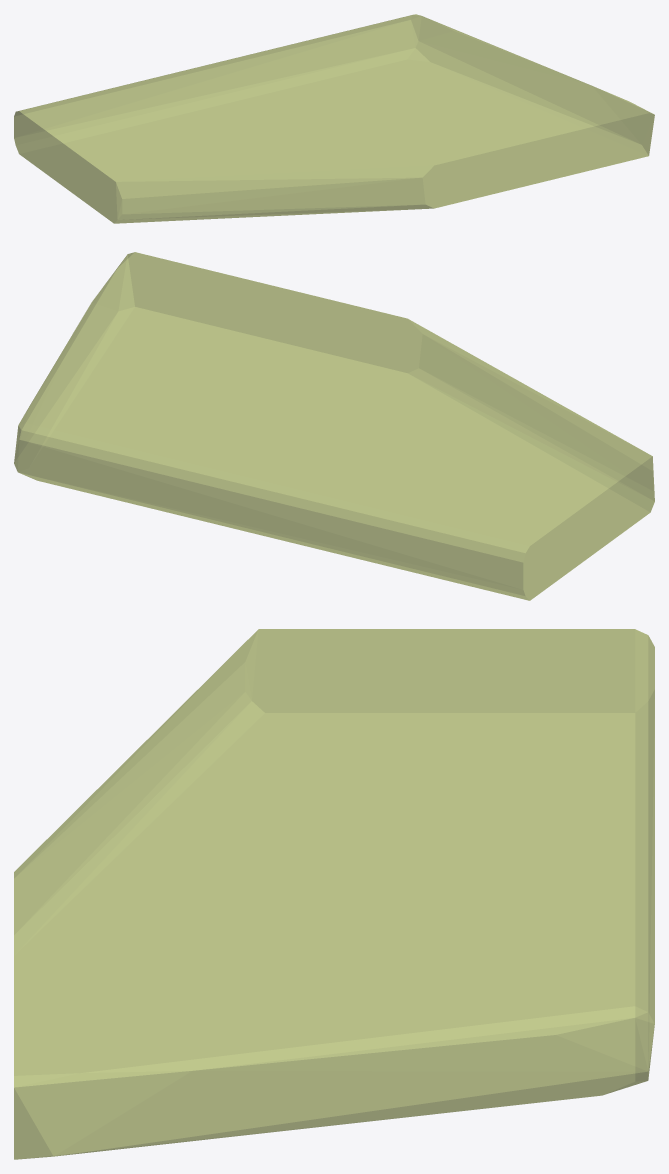
3 views of the same model, one above another, from view 1: azimuth 30°, elevation 25°; view 2: azimuth 150°, elevation 25°; view 3: azimuth 270°, elevation 25° (orthographic). The views are drawn at different scales.
Visible parts, largest first — view 1: Shape_IndexedFaceSet.002_Shape_IndexedFaceSet.17154; view 2: Shape_IndexedFaceSet.002_Shape_IndexedFaceSet.17154; view 3: Shape_IndexedFaceSet.002_Shape_IndexedFaceSet.17154.
Boxes of the visible parts, bbox=[...] form: Shape_IndexedFaceSet.002_Shape_IndexedFaceSet.17154: bbox=[14, 14, 654, 223]; Shape_IndexedFaceSet.002_Shape_IndexedFaceSet.17154: bbox=[14, 252, 654, 600]; Shape_IndexedFaceSet.002_Shape_IndexedFaceSet.17154: bbox=[14, 629, 654, 1159].
Bounding box in the file's own units: 0.2741 × 0.0237 × 0.1641.
